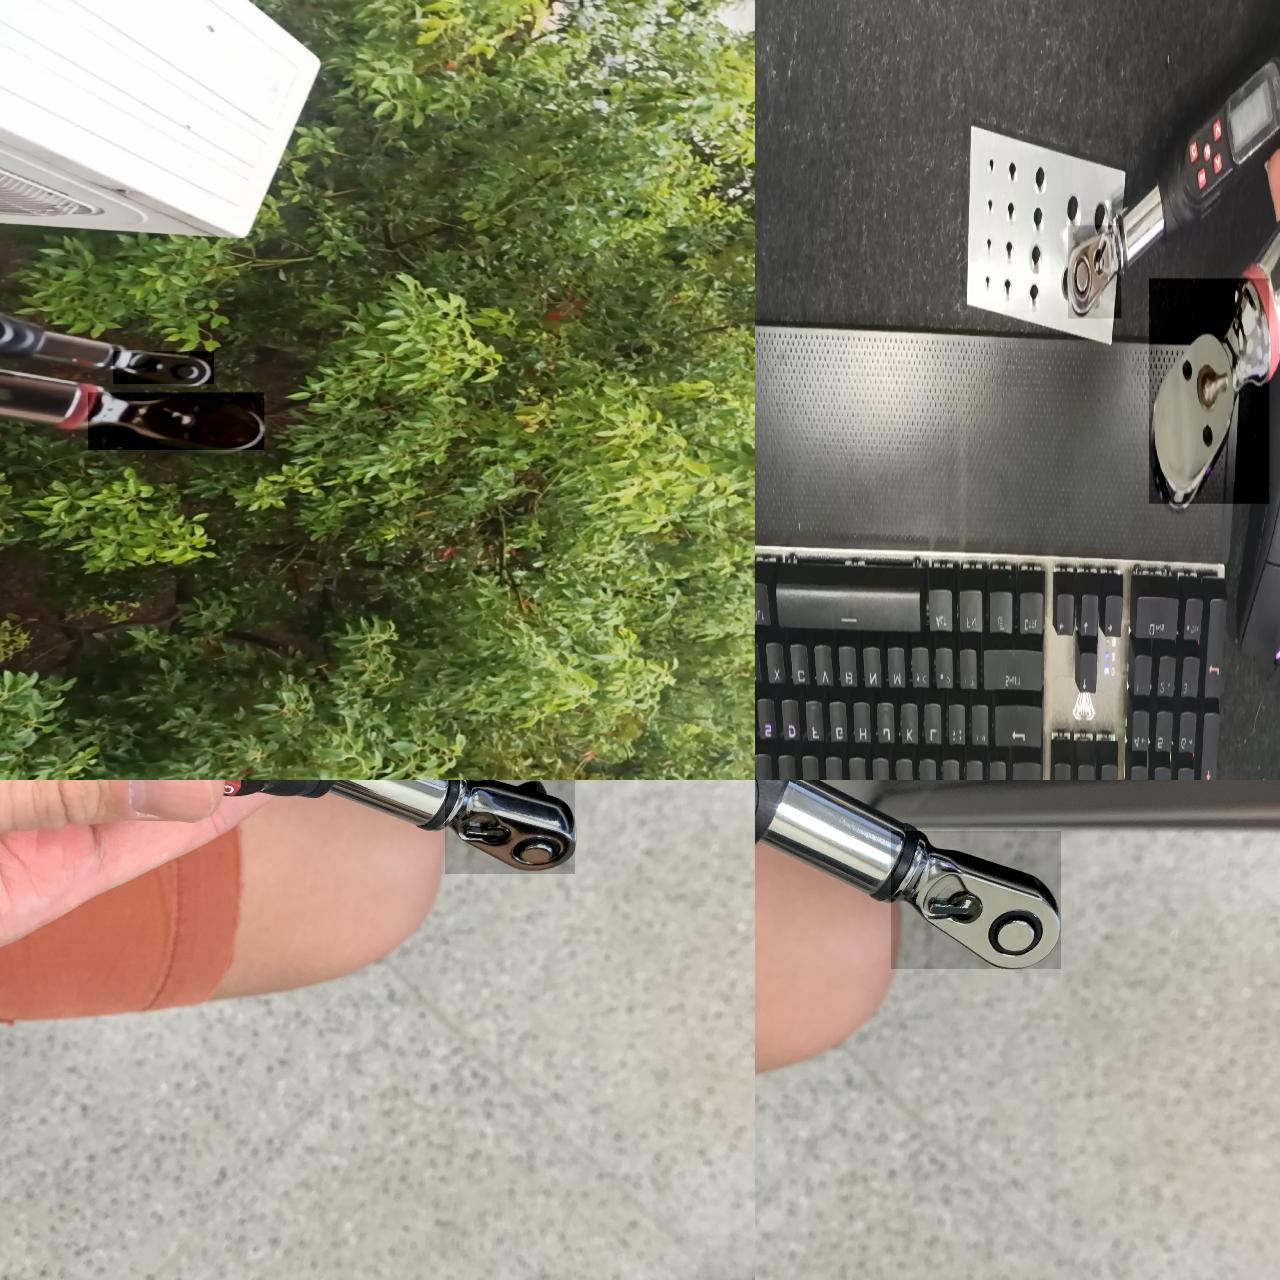Tool: (1149, 278, 1269, 504), (891, 831, 1061, 969), (445, 779, 576, 874), (88, 392, 264, 450), (1068, 225, 1122, 319), (114, 350, 213, 384)
